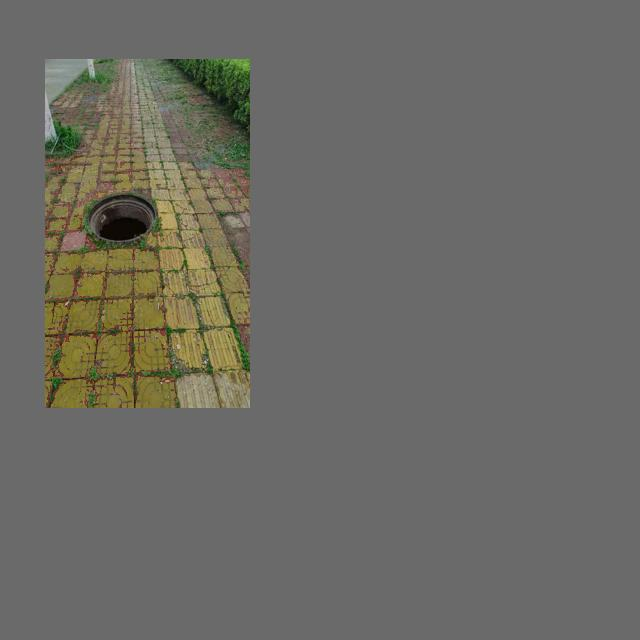lose: (88, 192, 157, 242)
